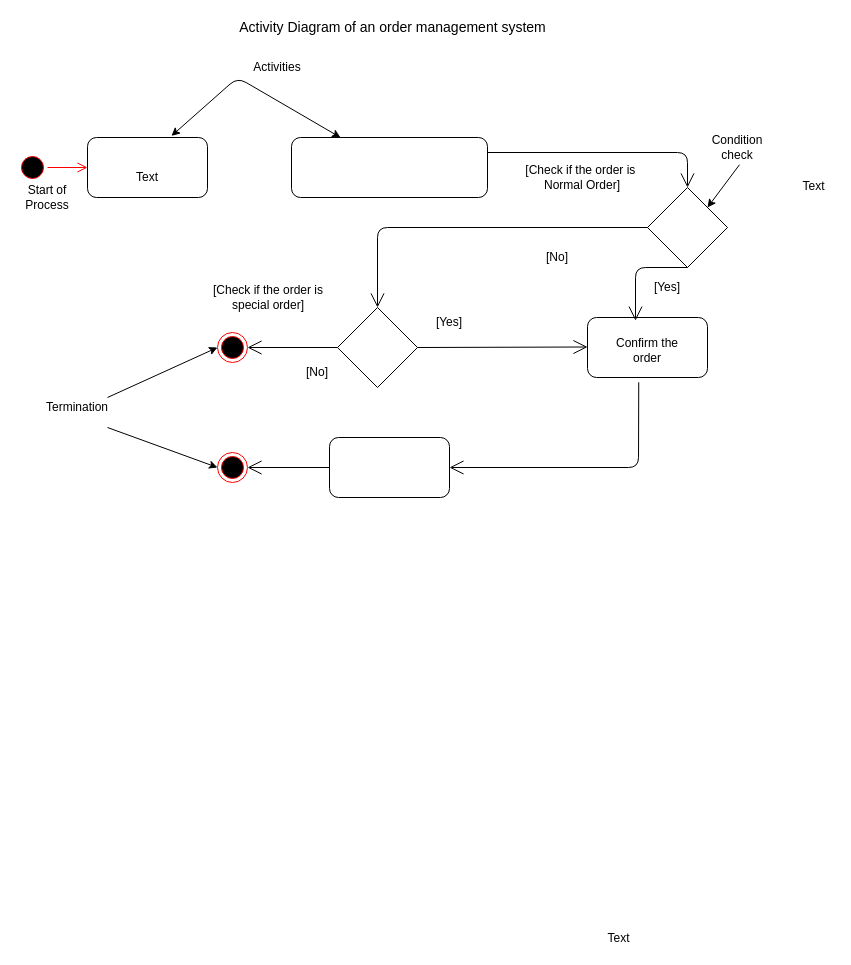
This 851x965 diagram has some shape labels left out. Here are the shapes that lost their labels. From the top down, the centre of each, then its label:
pixel 389 167: Order request system confirms the receipt of the order
pixel 389 467: Dispatch the order
